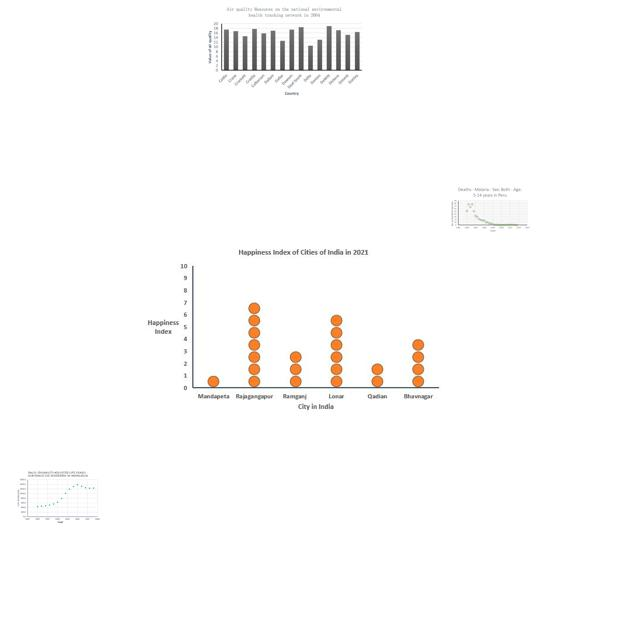Graph: (139, 244, 442, 419), (203, 3, 365, 98), (16, 470, 101, 525), (449, 186, 531, 233)
